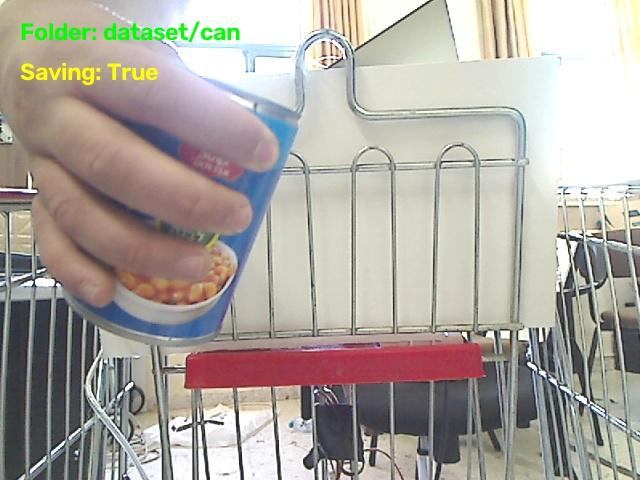can: (66, 85, 298, 345)
